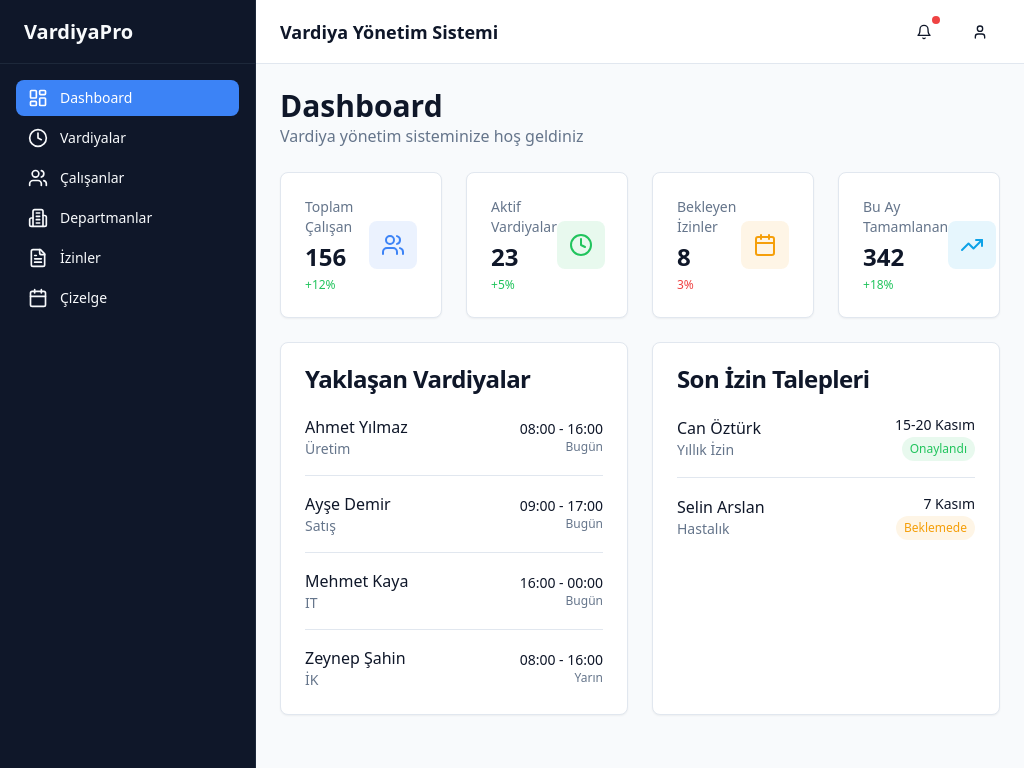
Test: Schedule page › navigates to Schedule and sees table and export button
Click the link with test id "nav-schedule" at (68, 298), box [28, 288, 107, 308]
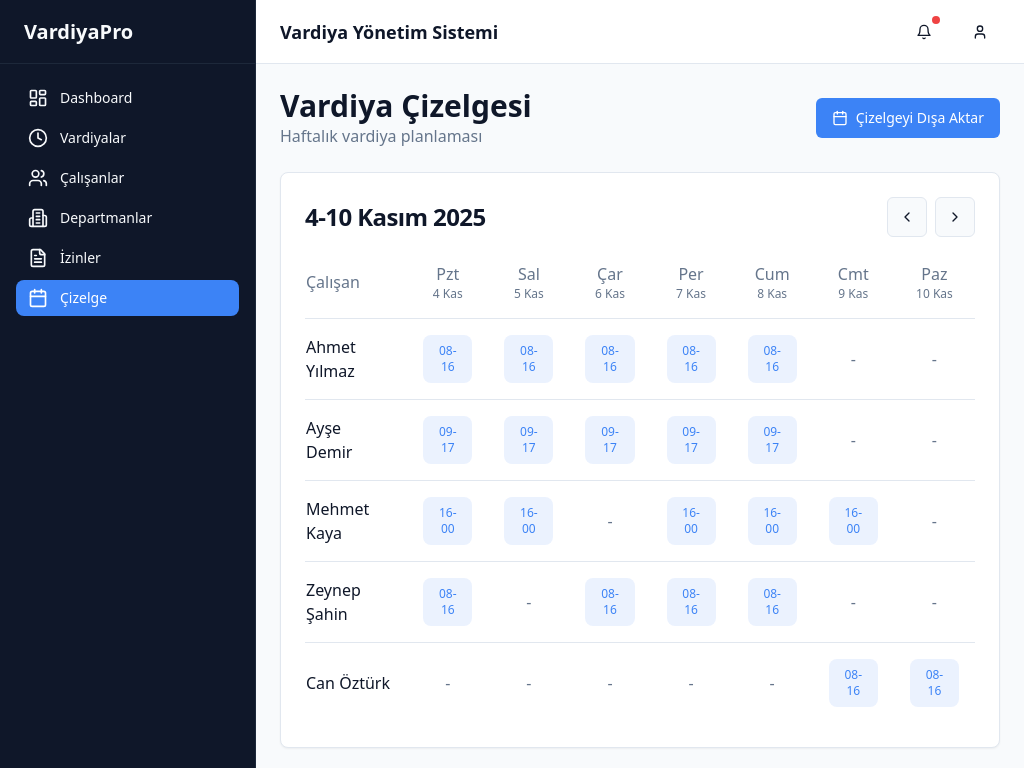
Expected: the link "Çalışanlar" is shown, [28, 168, 124, 188]
Expected: the heading "Vardiya Çizelgesi" is shown, [280, 88, 532, 124]
Expected: the button with test id "schedule-export-btn" is shown, [816, 98, 1000, 138]
